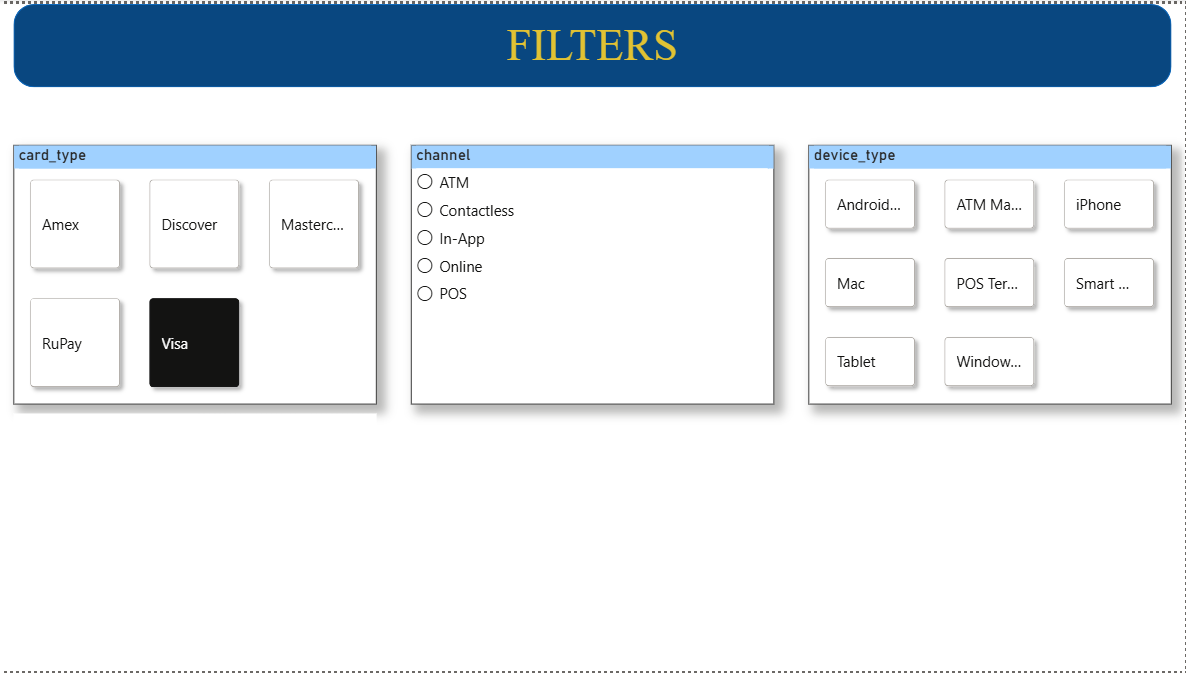

What the dashboard file says about the page in this screenshot:
{"tool":"powerbi","page":{"name":"Page 2","canvas":[1280,720],"ordinal":1},"visuals":[{"type":"advancedSlicerVisual","fields":{"Values":["credit_card_fraud_2026.card_type"]},"box":[15,151.7,391.7,280],"z":0},{"type":"listSlicer","fields":{"Values":["credit_card_fraud_2026.channel"]},"box":[443.3,151.7,391.7,280],"z":1000},{"type":"advancedSlicerVisual","fields":{"Values":["credit_card_fraud_2026.device_type"]},"box":[873.3,151.7,391.7,280],"z":2000},{"type":"shape","box":[15,0,1250,90],"z":3000},{"type":"textbox","box":[15,442,392,278],"z":4000},{"type":"textbox","box":[443.3,11.7,391.7,65],"z":5000}]}

Visuals, with their boxes in screenshot pixels (x1, y1, x2, y2), scaled from the page's 1280x720 canvas onto the 1186x673 screenshot:
advancedSlicerVisual - credit_card_fraud_2026.card_type: rect(14, 142, 377, 404)
listSlicer - credit_card_fraud_2026.channel: rect(411, 142, 774, 404)
advancedSlicerVisual - credit_card_fraud_2026.device_type: rect(809, 142, 1172, 404)
shape: rect(14, 0, 1172, 84)
textbox: rect(14, 413, 377, 672)
textbox: rect(411, 11, 774, 72)
